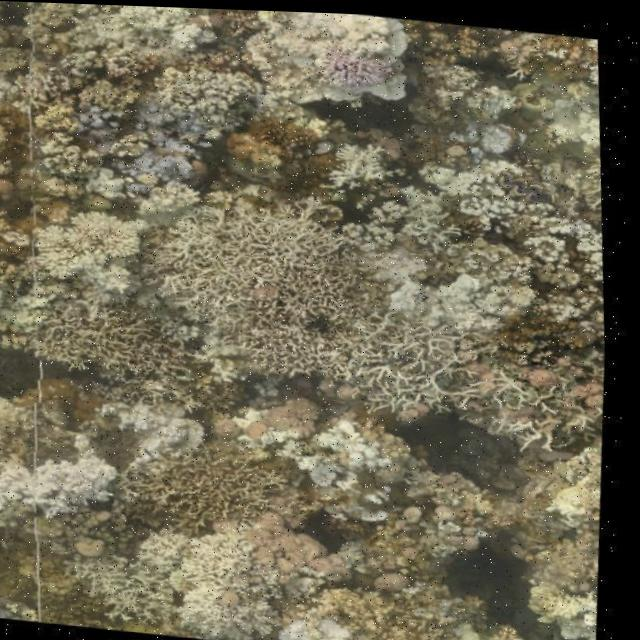Bleached Coral: (356, 214, 545, 330), (151, 529, 290, 640), (36, 207, 160, 298), (104, 391, 220, 470), (0, 452, 131, 521), (130, 86, 215, 189), (265, 8, 420, 63), (323, 411, 403, 475), (104, 3, 225, 43), (74, 92, 130, 144), (467, 110, 523, 159), (292, 615, 384, 640)
